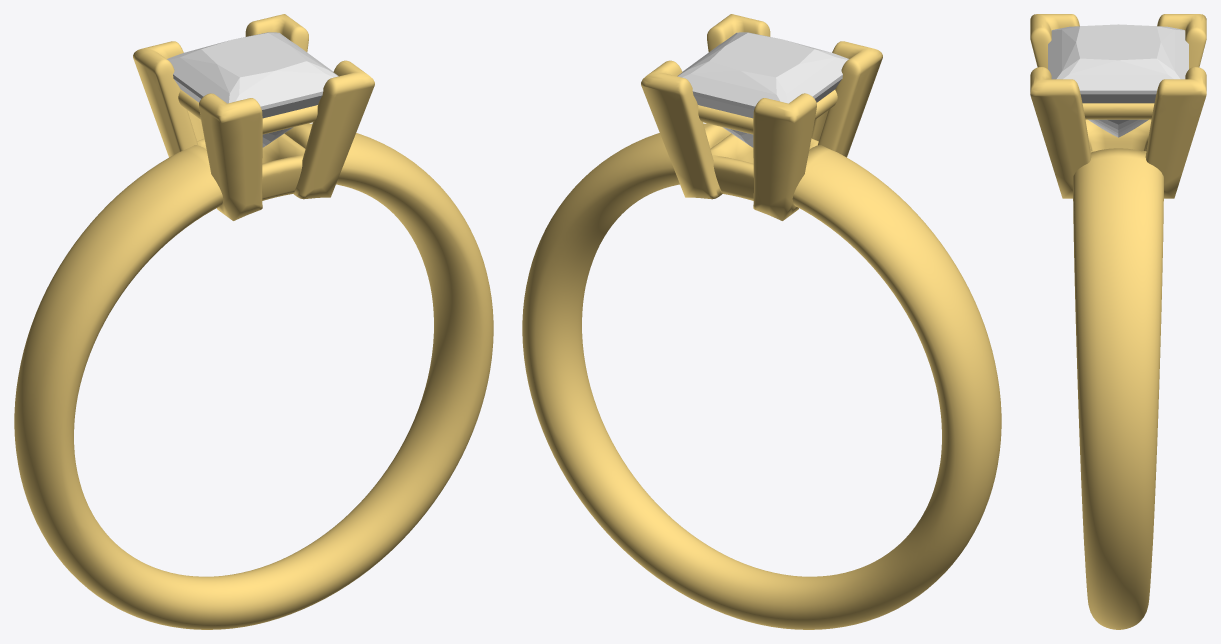
File: diamond-princess-yellowgold-protectededges4prongs-taperedband-solitaire.glb
3 renders of one model, left to right at view 1: azimuth 30°, elevation 25°; view 2: azimuth 150°, elevation 25°; view 3: azimuth 270°, elevation 25°, orthographic.
Parts seen in each view (by area): view 1: metal, stone; view 2: metal, stone; view 3: metal, stone.
Part boxes in pixels (x1,y1,x2,y2): metal: (14, 14, 493, 629); stone: (167, 32, 338, 147); metal: (522, 14, 1001, 629); stone: (677, 32, 848, 147); metal: (1030, 14, 1206, 629); stone: (1048, 24, 1188, 137).
Size of the model in its own units: 20.5 by 23.85 by 6.77.
